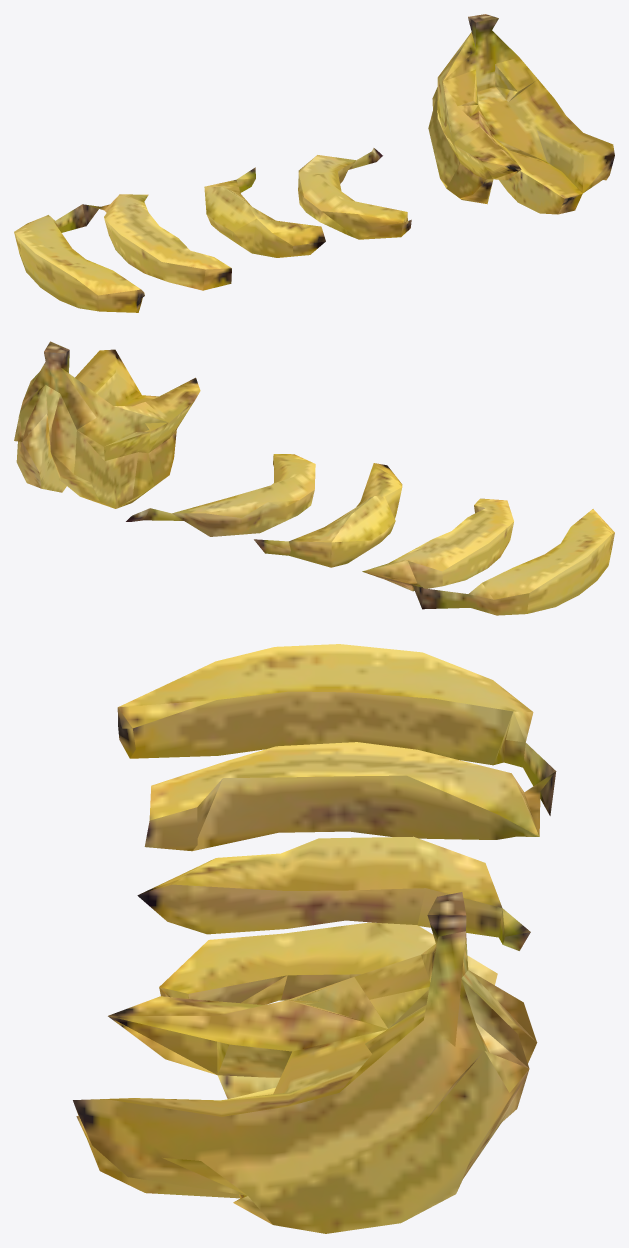
File: bananas.glb
The picture shows the model from 3 angles, top to bottom: view 1: azimuth 30°, elevation 25°; view 2: azimuth 150°, elevation 25°; view 3: azimuth 270°, elevation 25°; orthographic projection. The views are drawn at different scales.
Visible parts, largest first — view 1: mesh; view 2: mesh; view 3: mesh.
Boxes of the visible parts, left/top/right/bottom form: mesh: left=14, top=14, right=614, bottom=312; mesh: left=14, top=341, right=614, bottom=615; mesh: left=73, top=644, right=556, bottom=1233.
Size of the model in its own units: 0.6409 by 0.1788 by 0.2548.
Materials: 1 (1 with a texture image).
